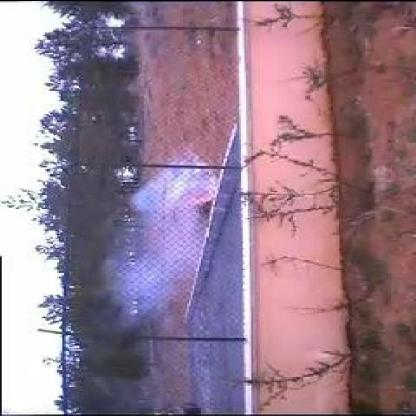-: (106, 163, 246, 341)
